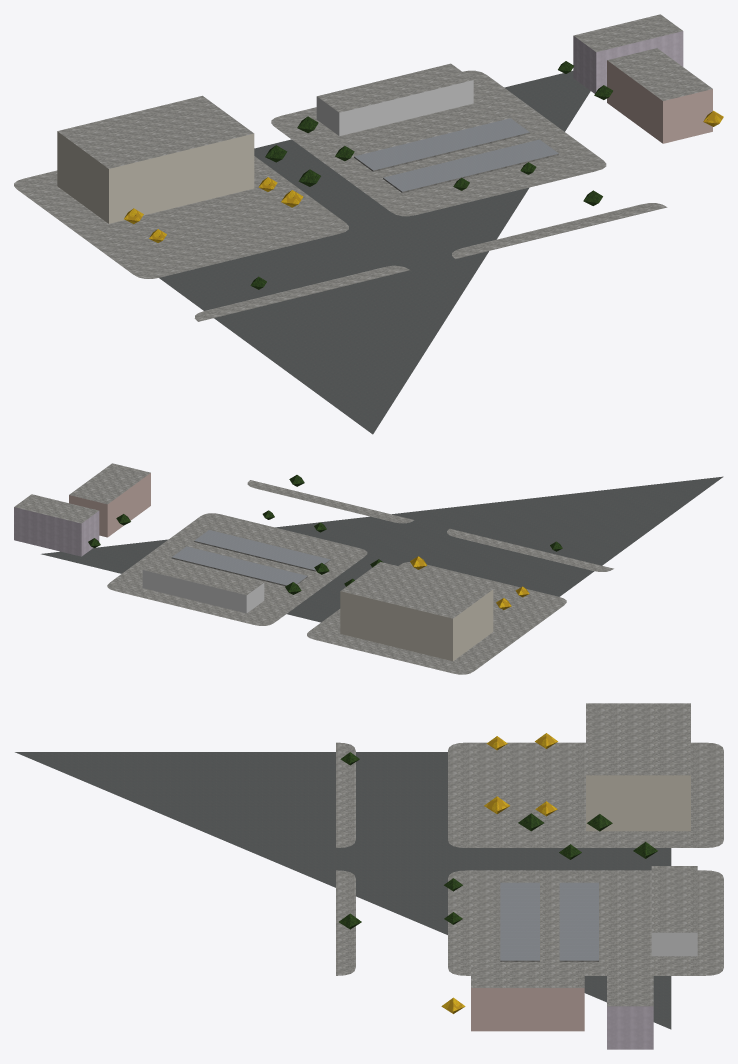
File: cidade_S04_05_lod.gltf
3 renders of one model, top to bottom at view 1: azimuth 30°, elevation 25°; view 2: azimuth 150°, elevation 25°; view 3: azimuth 270°, elevation 25°, orthographic. The views are drawn at different scales.
Visible parts, largest first — view 1: S04_05_Chao_LOD2, S04_05_Edificios_LOD1, S04_05_Vegetacao_LOD2; view 2: S04_05_Chao_LOD2, S04_05_Edificios_LOD1, S04_05_Vegetacao_LOD2; view 3: S04_05_Chao_LOD2, S04_05_Edificios_LOD1, S04_05_Vegetacao_LOD2.
Boxes of the visible parts, <box> form: S04_05_Chao_LOD2: <box>14,70,667,434</box>; S04_05_Edificios_LOD1: <box>57,14,712,223</box>; S04_05_Vegetacao_LOD2: <box>124,61,723,289</box>; S04_05_Chao_LOD2: <box>41,476,723,674</box>; S04_05_Edificios_LOD1: <box>14,463,493,661</box>; S04_05_Vegetacao_LOD2: <box>88,475,562,609</box>; S04_05_Chao_LOD2: <box>15,742,723,1029</box>; S04_05_Edificios_LOD1: <box>471,703,697,1049</box>; S04_05_Vegetacao_LOD2: <box>339,733,657,1013</box>.
Bounding box in the file's own units: 111 × 9.57 × 108.
9 materials, 9 textured.
